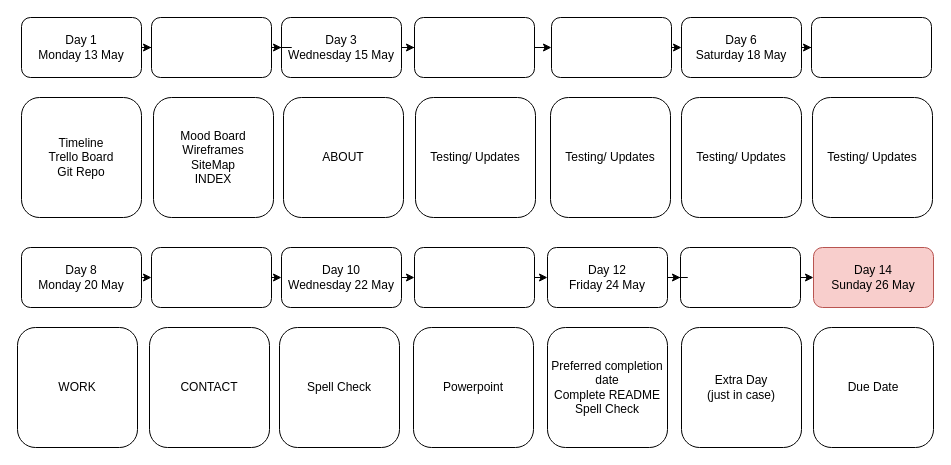
Some shapes in this 951 by 465 pixel diagram are drawn without their labels. Each missing label, with the box of its shape:
Day 11 Thursday 23 May: (414, 246, 534, 308)
Day 13 Saturday 25 May: (680, 246, 800, 308)
Day 2 Tuesday 14 May: (150, 16, 272, 78)
Day 4 Thursday 16 May: (414, 16, 534, 78)
Day 5 Friday 17 May: (550, 16, 672, 78)
Day 7 Sunday 19 May: (810, 16, 932, 78)
Day 9 Tuesday 21 May: (150, 246, 272, 308)
